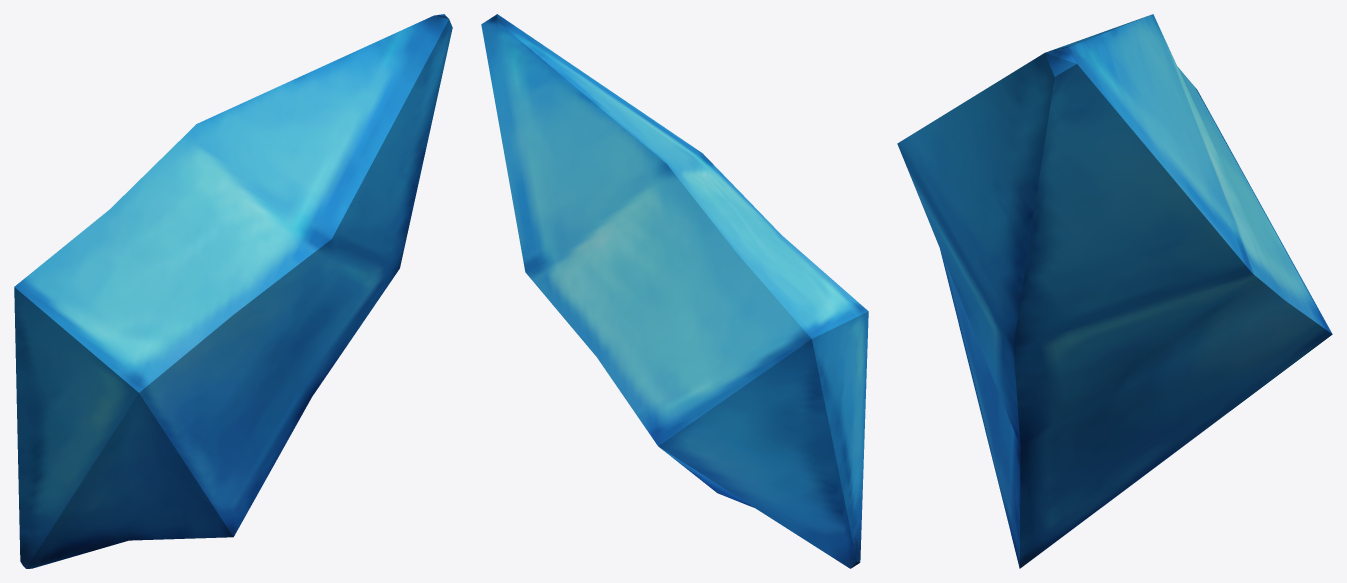
File: JewelBlue_drop.FBX
3 renders of one model, left to right at view 1: azimuth 30°, elevation 25°; view 2: azimuth 150°, elevation 25°; view 3: azimuth 270°, elevation 25°, orthographic. The views are drawn at different scales.
Parts seen in each view (by area): view 1: JewelBlue_drop; view 2: JewelBlue_drop; view 3: JewelBlue_drop.
Part boxes in pixels (box(x1,y1,x2,y2)): JewelBlue_drop: box(14, 14, 452, 568); JewelBlue_drop: box(481, 14, 868, 568); JewelBlue_drop: box(897, 14, 1332, 568).
Bounding box in the file's own units: 22.82 × 24.89 × 14.12.
